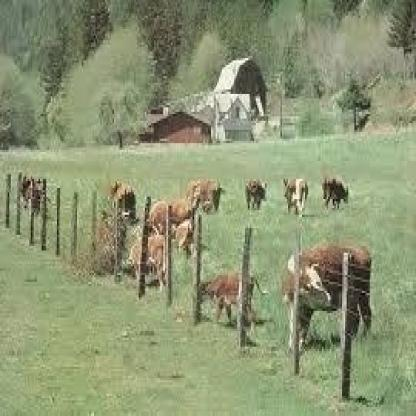cow: (283, 242, 375, 353), (197, 270, 261, 326), (130, 235, 174, 288), (149, 200, 199, 236), (21, 174, 51, 217), (186, 179, 225, 212), (107, 181, 138, 219), (320, 176, 352, 212), (282, 179, 311, 215), (176, 219, 197, 260), (245, 180, 268, 211)
